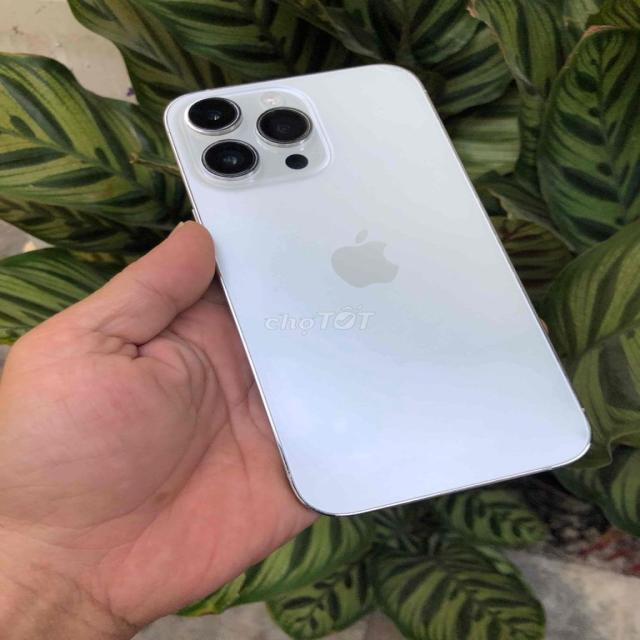gen_14: (156, 54, 596, 515)
